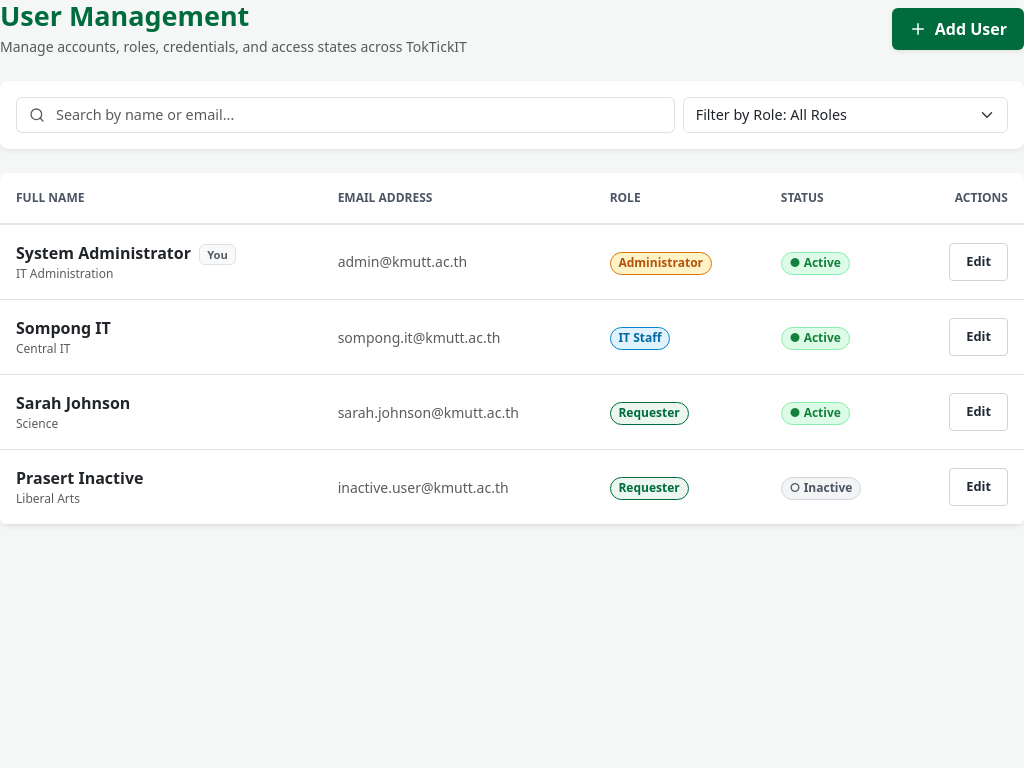
Scenario: Issue 15: Administrator User Management UI Component › UI-ADM-04: opens Create User modal, submits valid form, and creates account (AC-15.1)
# Open modal
Click the button with test id "add-user-btn". click: (958, 29)
box: x1=892 y1=8 x2=1023 y2=50
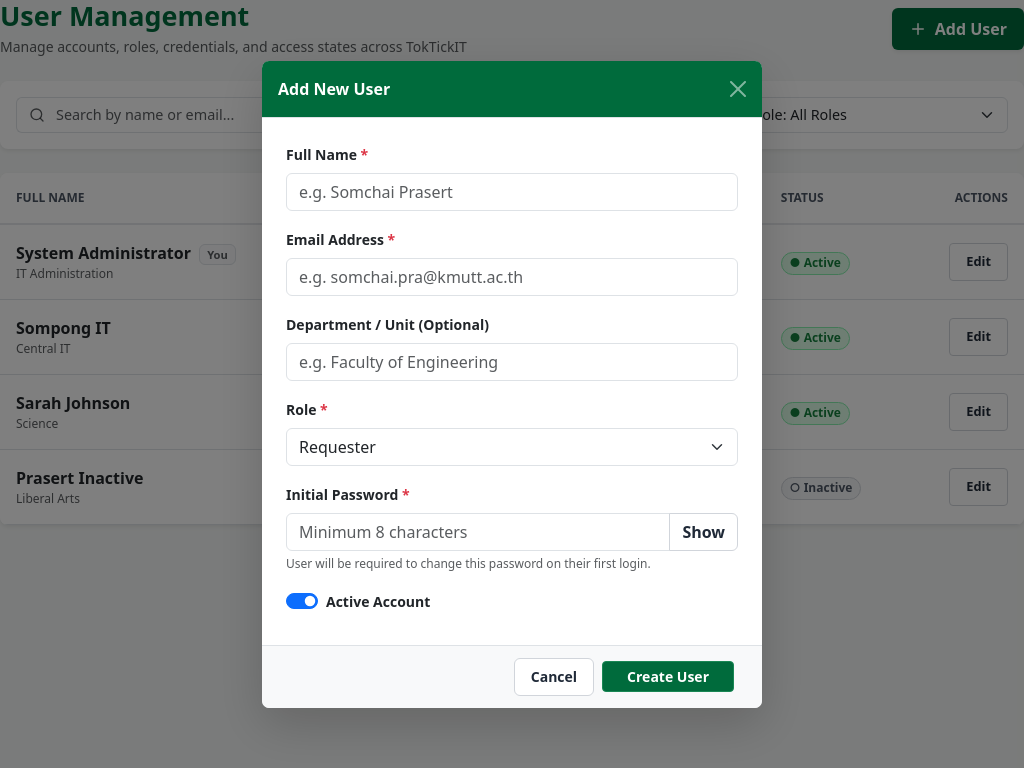
expect the heading "Add New User" is shown: met, box x1=278 y1=76 x2=390 y2=100
# Fill form
Type "Alice Engineer" into the field with test id "create-user-name". click: (512, 192)
box: x1=286 y1=172 x2=738 y2=210
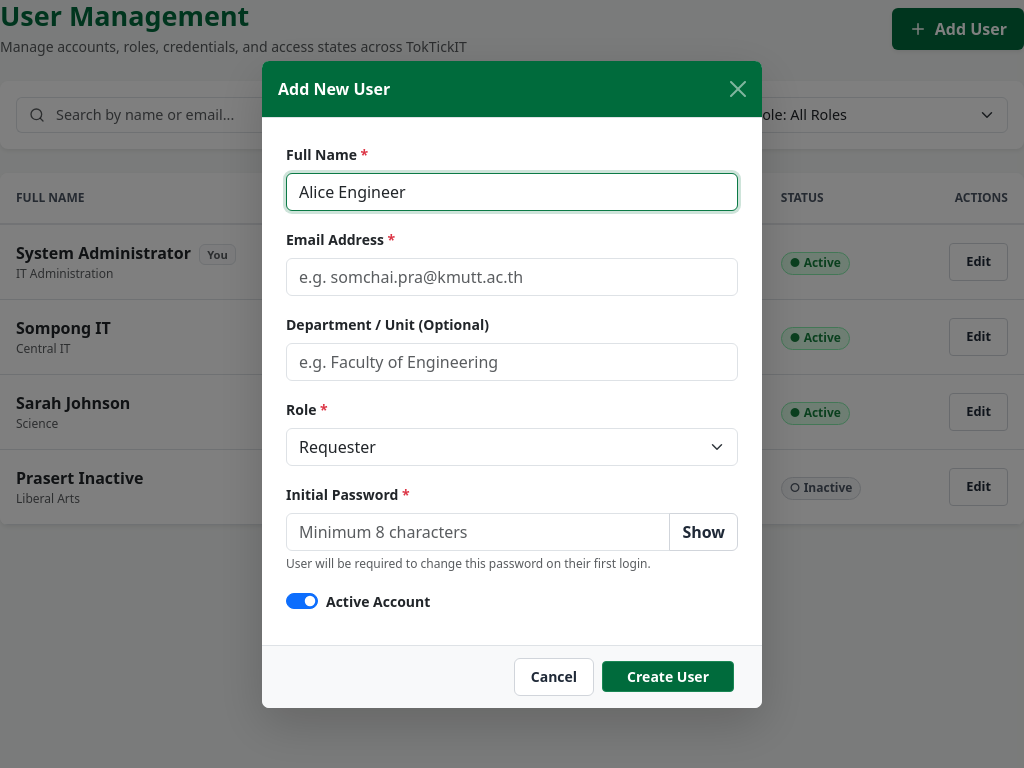
Type "alice@kmutt.ac.th" into the field with test id "create-user-email". click: (512, 276)
box: x1=286 y1=258 x2=738 y2=296
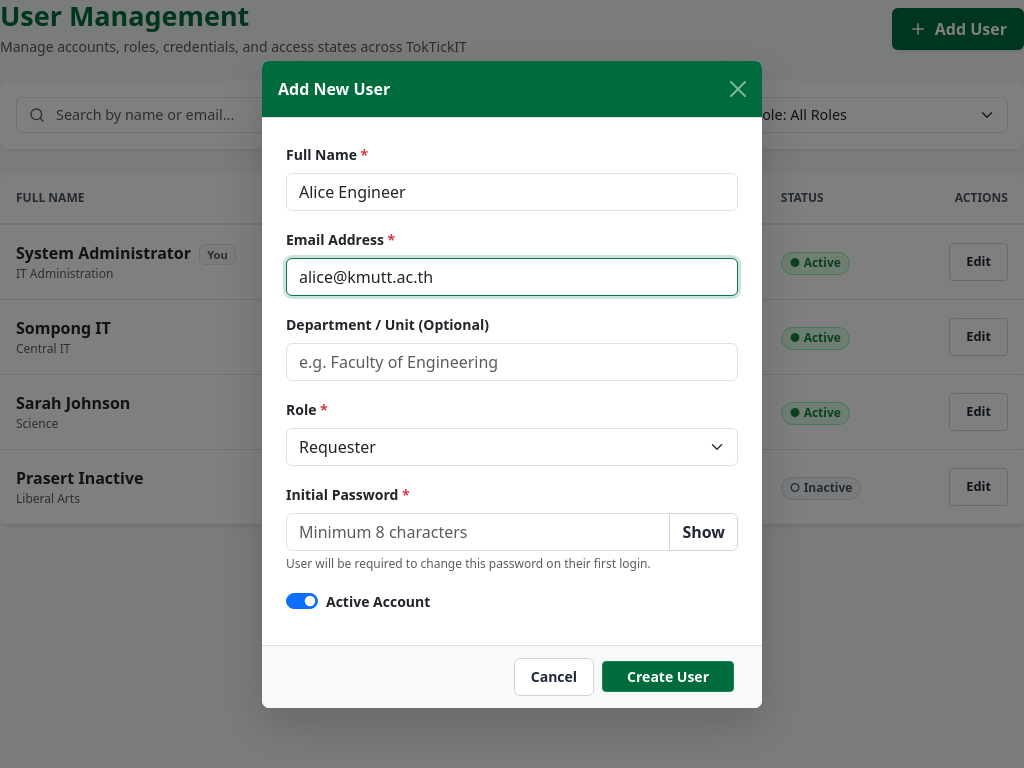
Type "Engineering" into the field with test id "create-user-department". click: (512, 362)
box: x1=286 y1=342 x2=738 y2=380
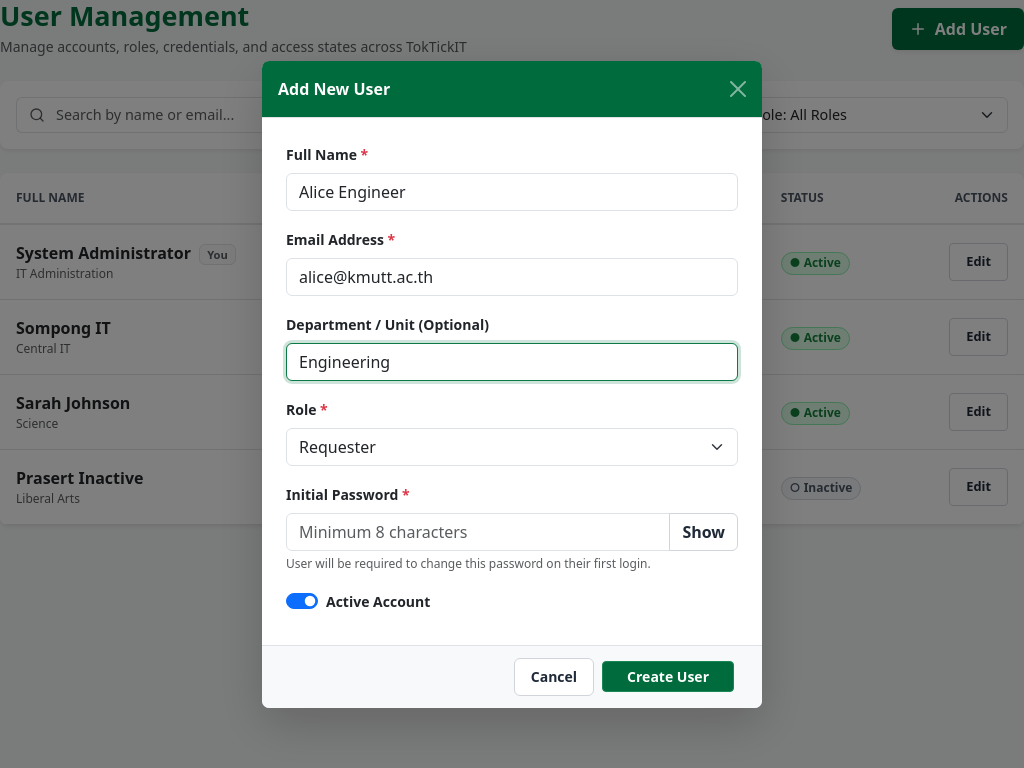
Type "InitialPass123!" into the password field with test id "create-user-password". click: (478, 532)
box: x1=286 y1=512 x2=670 y2=550
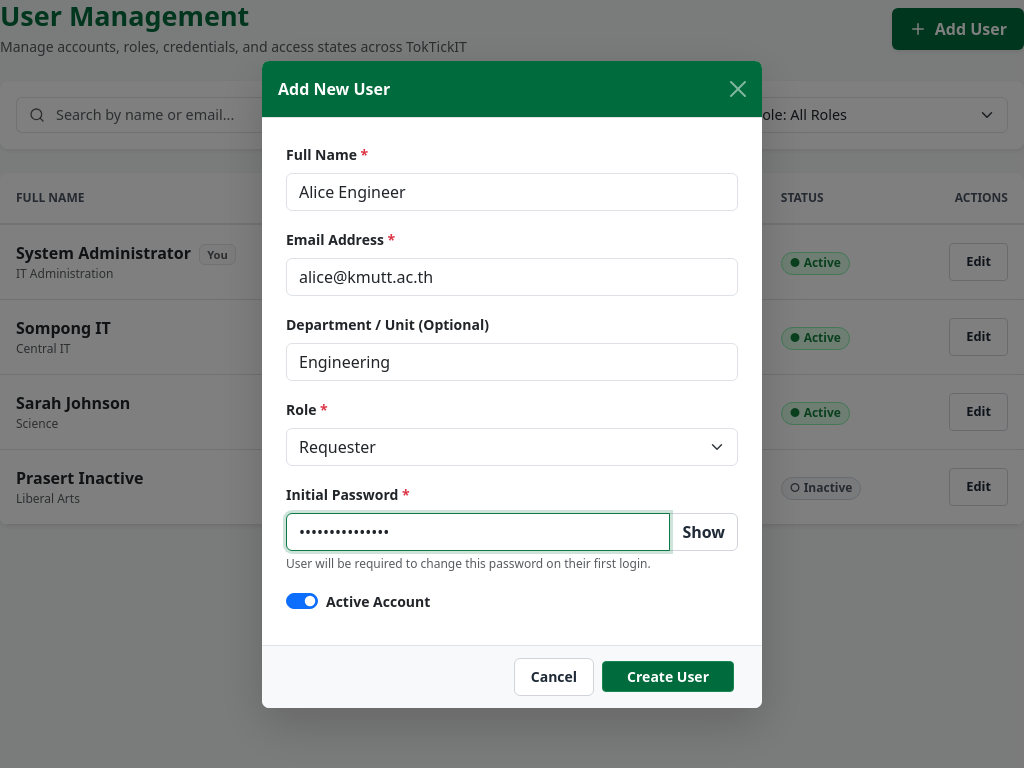
Click the button with test id "create-user-submit". click: (668, 676)
box: x1=602 y1=661 x2=734 y2=692
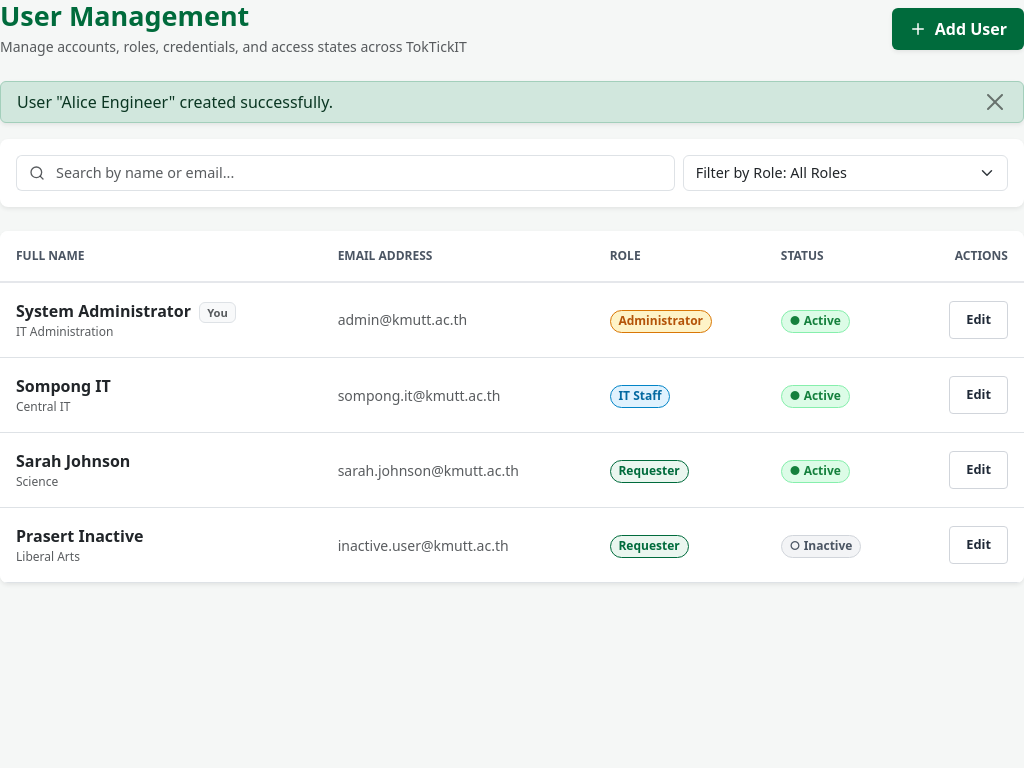
expect the message with test id "admin-success-alert" reads "User \"Alice Engineer\" created successfully.": met, box x1=17 y1=91 x2=333 y2=113
